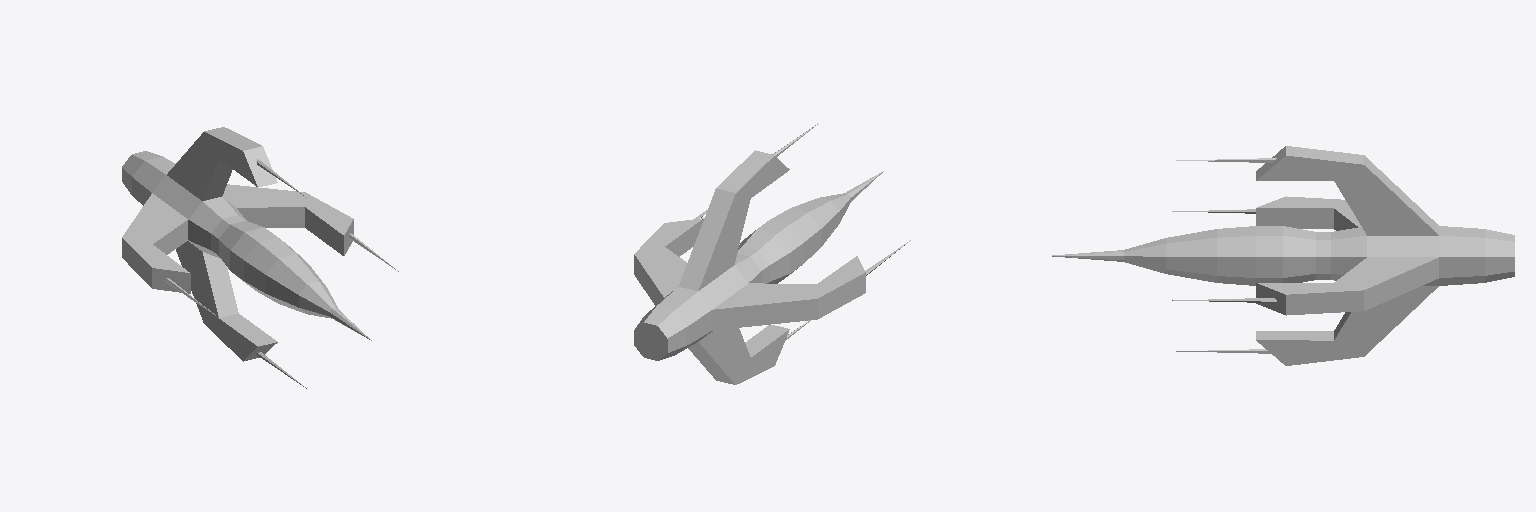
The model's file is quad.obj.
3 renders of one model, left to right at view 1: azimuth 30°, elevation 25°; view 2: azimuth 150°, elevation 25°; view 3: azimuth 270°, elevation 25°, orthographic.
Visible parts, largest first — view 1: Mesh; view 2: Mesh; view 3: Mesh.
Boxes of the visible parts, x1,y1,x2,y2 form: Mesh: [122, 127, 398, 388]; Mesh: [634, 123, 910, 384]; Mesh: [1052, 146, 1514, 365].
Size of the model in its own units: 249 by 249 by 502.